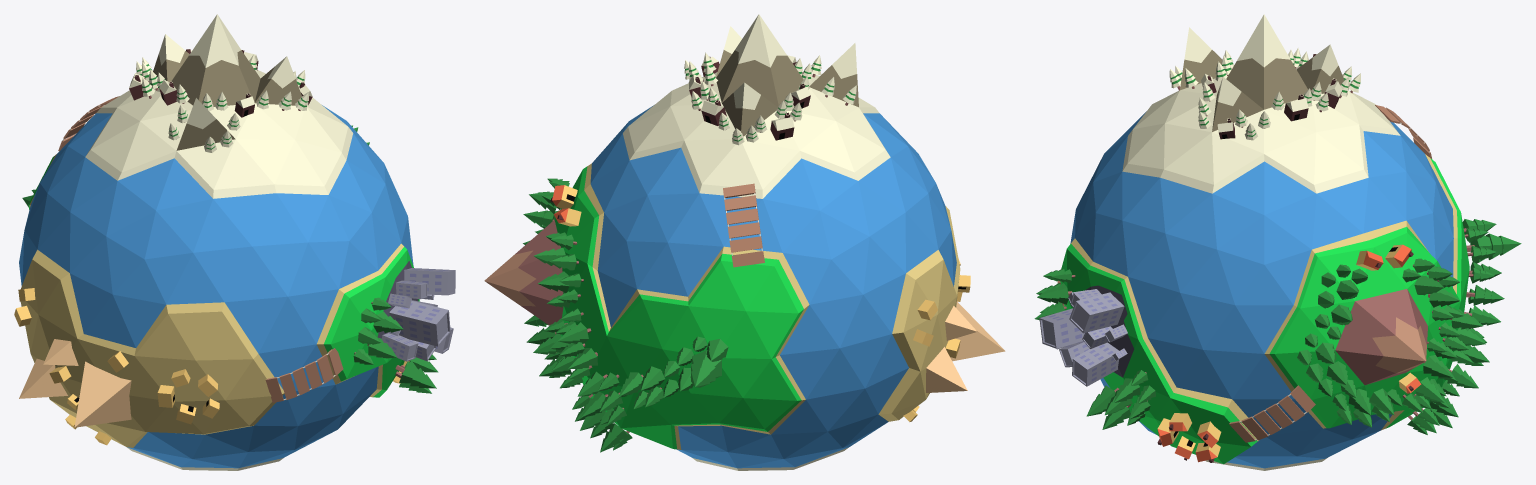
3 renders of one model, left to right at view 1: azimuth 30°, elevation 25°; view 2: azimuth 150°, elevation 25°; view 3: azimuth 270°, elevation 25°, orthographic.
Parts seen in each view (by area): view 1: Planet, Cone.003, Building, Cube.002, Cone.001, Building.004, Cone.002, Building.007, Cylinder.007, Building.005, Cube; view 2: Planet, Cube, Cone.001, Cone.003, Cone.236, Cone.002; view 3: Planet, Cube.001, Building.004, Building.001, Building, Cone.236, Cube.
Boxes of the visible parts, left/top/right/bottom form: Planet: left=19, top=14, right=419, bottom=470; Cone.003: left=74, top=361, right=131, bottom=427; Building: left=389, top=301, right=450, bottom=346; Cube.002: left=265, top=348, right=343, bottom=402; Cone.001: left=19, top=358, right=67, bottom=398; Building.004: left=404, top=268, right=455, bottom=295; Cone.002: left=43, top=339, right=78, bottom=365; Building.007: left=381, top=333, right=418, bottom=361; Cylinder.007: left=395, top=360, right=436, bottom=388; Building.005: left=396, top=280, right=427, bottom=299; Cube: left=58, top=96, right=119, bottom=151; Planet: left=484, top=14, right=960, bottom=470; Cube: left=723, top=183, right=764, bottom=267; Cone.001: left=926, top=347, right=967, bottom=392; Cone.003: left=950, top=301, right=1005, bottom=361; Cone.236: left=690, top=350, right=721, bottom=387; Cone.002: left=945, top=306, right=977, bottom=340; Planet: left=1060, top=14, right=1469, bottom=470; Cube.001: left=1229, top=385, right=1315, bottom=442; Building.004: left=1069, top=292, right=1124, bottom=333; Building.001: left=1072, top=342, right=1118, bottom=386; Building: left=1039, top=308, right=1084, bottom=348; Cone.236: left=1466, top=233, right=1521, bottom=263; Cube: left=1375, top=105, right=1431, bottom=158.
Size of the model in its own units: 235 by 245 by 246.
